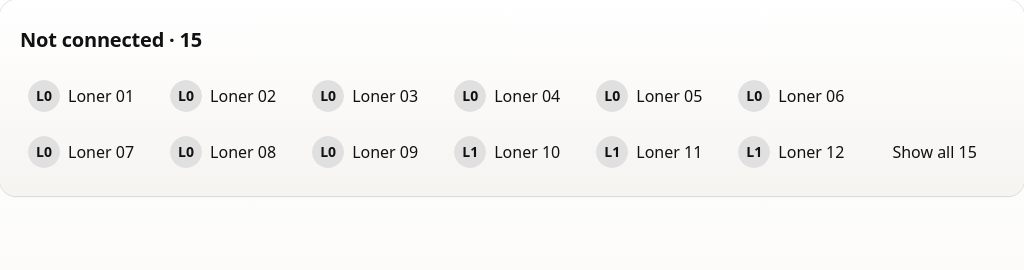
Scenario: NotConnectedTray › shows the first dozen, then everyone on "Show all"
The image size is (1024, 270).
Click the button "Show all 15": click(935, 152) [872,128,997,176]
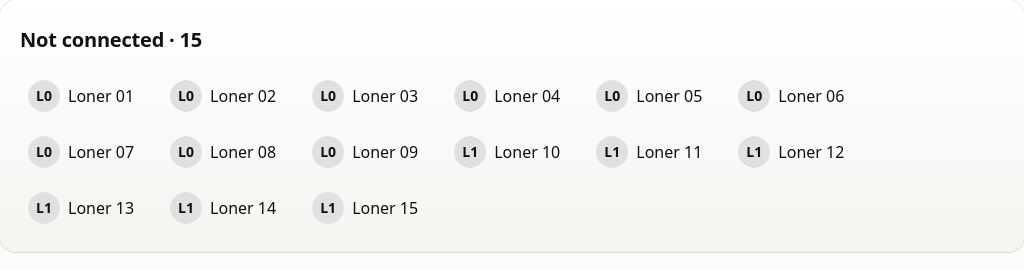
Expected: the number of buttons "L0 Loner 01" is 15
Expected: the button "Show all" is gone
